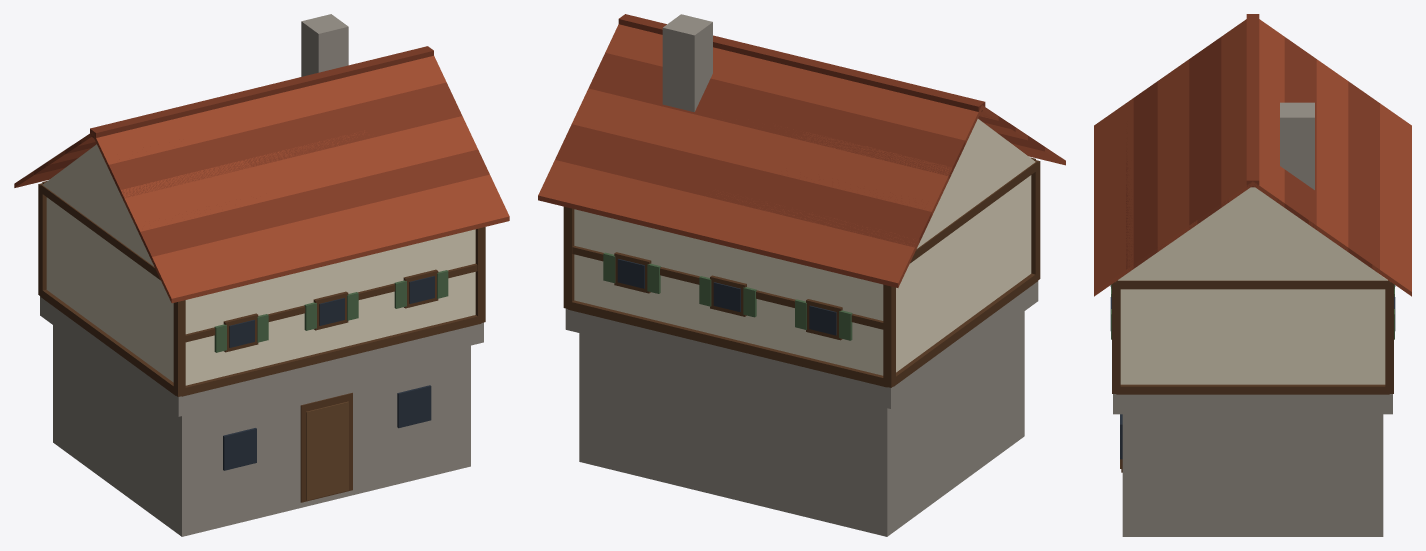
The model's file is house_l3.glb.
3 renders of one model, left to right at view 1: azimuth 30°, elevation 25°; view 2: azimuth 150°, elevation 25°; view 3: azimuth 270°, elevation 25°, orthographic. The views are drawn at different scales.
Visible parts, largest first — view 1: house_l3; view 2: house_l3; view 3: house_l3.
Part boxes in pixels (x1,y1,x2,y2): house_l3: (14, 14, 509, 536); house_l3: (538, 14, 1065, 536); house_l3: (1094, 14, 1411, 536).
Size of the model in its own units: 6.2 by 6.9 by 5.
